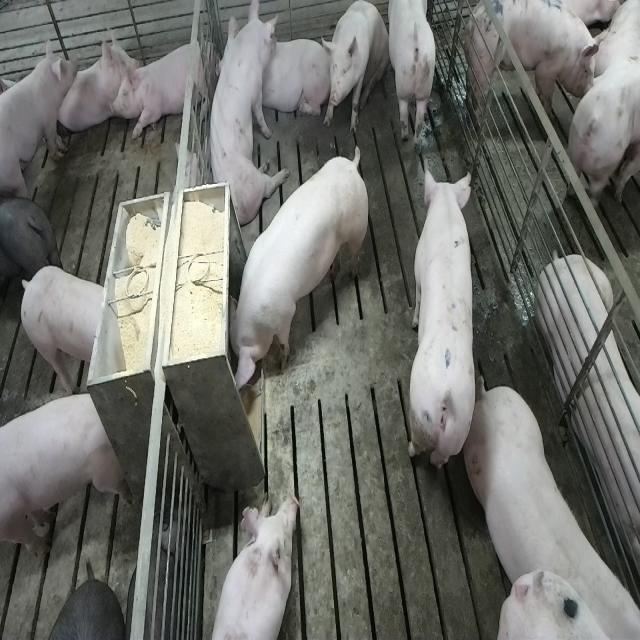Feeding: (220, 146, 366, 394)
Sitting: (201, 4, 284, 228), (323, 0, 389, 136)
Standing: (407, 165, 478, 479), (1, 387, 126, 564), (462, 0, 594, 132), (0, 37, 70, 205), (567, 56, 640, 216), (18, 264, 105, 398), (385, 2, 438, 154), (0, 192, 58, 308)
Sternal_lying: (539, 255, 640, 577), (207, 491, 297, 640), (116, 30, 216, 142), (56, 29, 137, 148), (258, 33, 330, 124)
